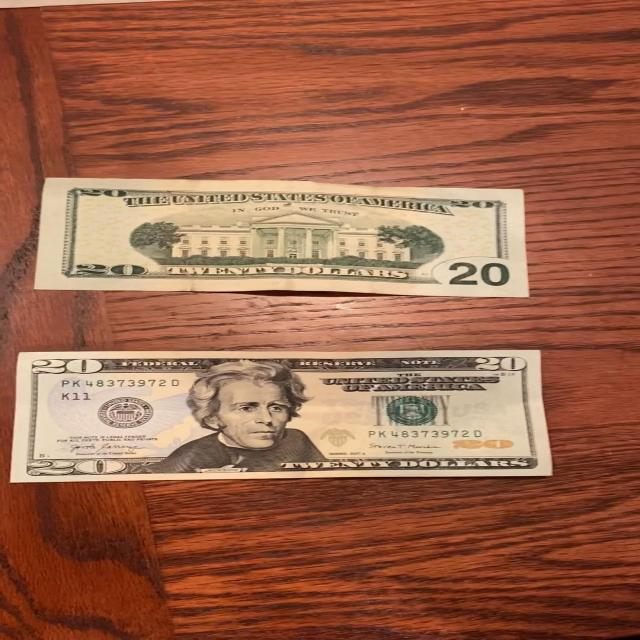20-Back: (35, 174, 538, 303)
20-Front: (11, 344, 567, 486)
